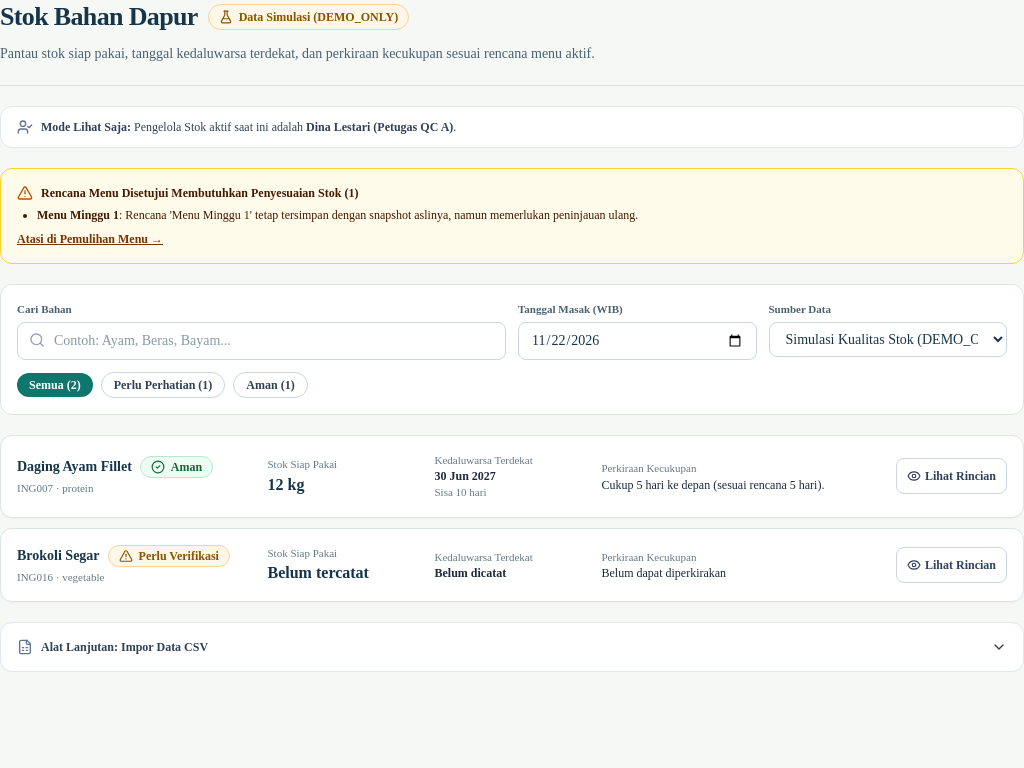
it: Sprint 3A.6 & Post-3C Inventory UX › shows prioritized 6-fact view, read-only custodian banner for non-custodian, non-green unverified badge, and expandable detail
This screenshot has width=1024, height=768.
Expected: the text "Daging Ayam Fillet" is shown, [17,457,132,477]
Expected: the element with test id "custodian-authority-banner" shows "Mode Lihat Saja", [41,120,131,134]
# Expandable detail reveals unrecorded supplier as "Belum dicatat" + pricing for Planner
What coordinates should you click on to do the following:
click the button "Lihat Rincian" in the row of "30 Jun 2027"
I would click on:
 (952, 476)
Its box is [896,458,1007,494].
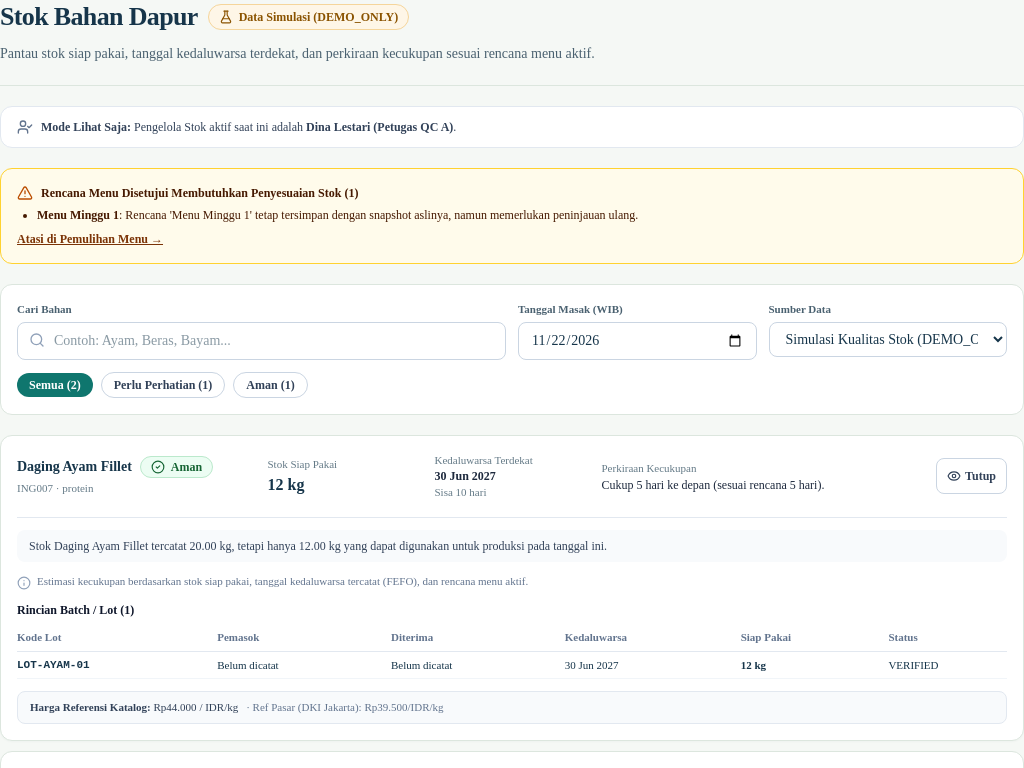
Now the text "LOT-AYAM-01" is shown, box [17,651,217,679]
Now the 1st text "Belum dicatat" is shown, box [217,651,391,679]
Now the text "· Ref Pasar (DKI Jakarta): Rp39.500/IDR/kg" is shown, box [246,701,444,713]
